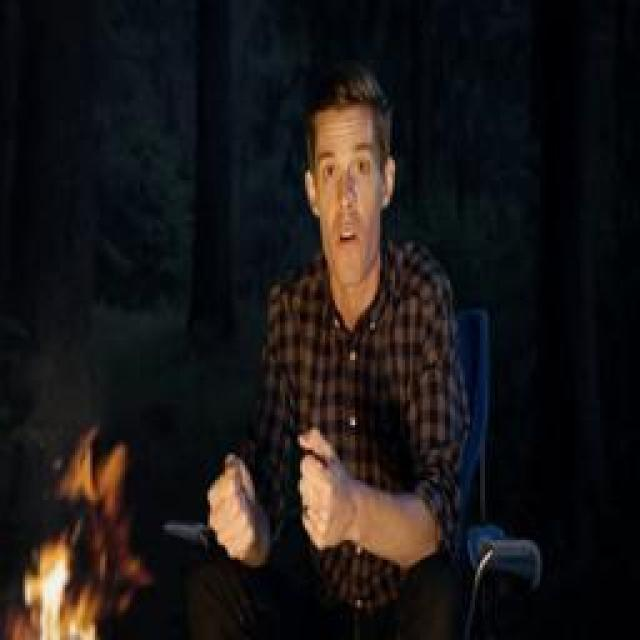Fire: (13, 425, 156, 640)
